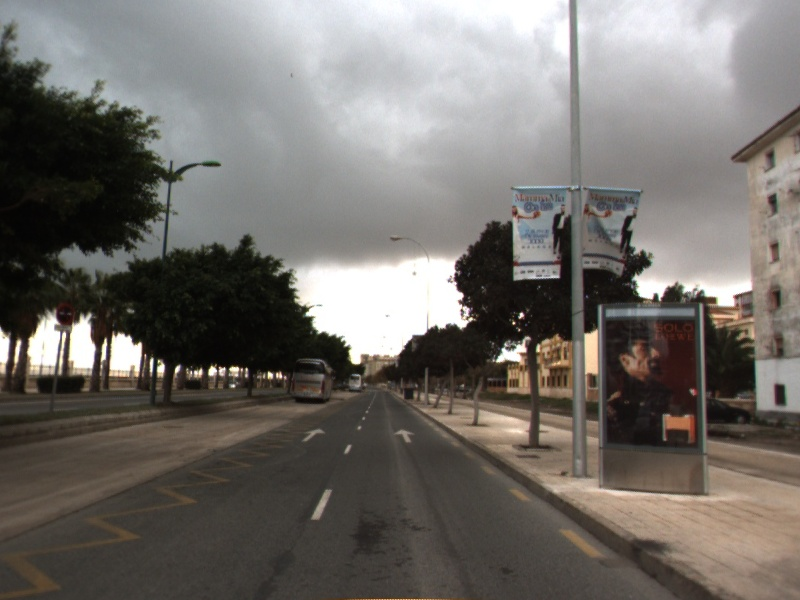STRAIGHT: (300, 427, 327, 444), (392, 427, 417, 444)
